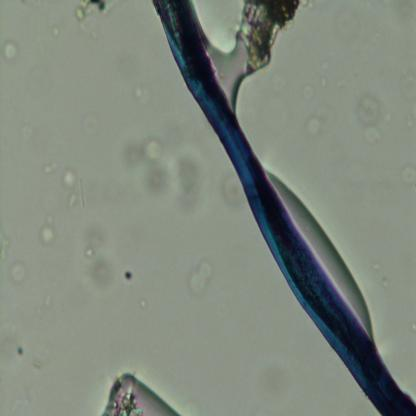Air bubble: (208, 2, 300, 95), (103, 371, 179, 415)
Background material: (119, 132, 210, 218), (79, 223, 116, 293), (0, 327, 50, 376), (357, 96, 386, 148), (74, 2, 113, 31), (191, 258, 213, 302), (62, 164, 80, 210), (223, 175, 244, 212), (38, 218, 60, 249), (1, 39, 20, 64), (132, 82, 150, 106), (9, 262, 28, 283), (401, 162, 416, 188), (303, 79, 319, 101), (305, 118, 321, 139), (42, 158, 59, 177), (121, 268, 134, 286), (53, 24, 58, 37)
Cotton: (152, 0, 416, 416)
